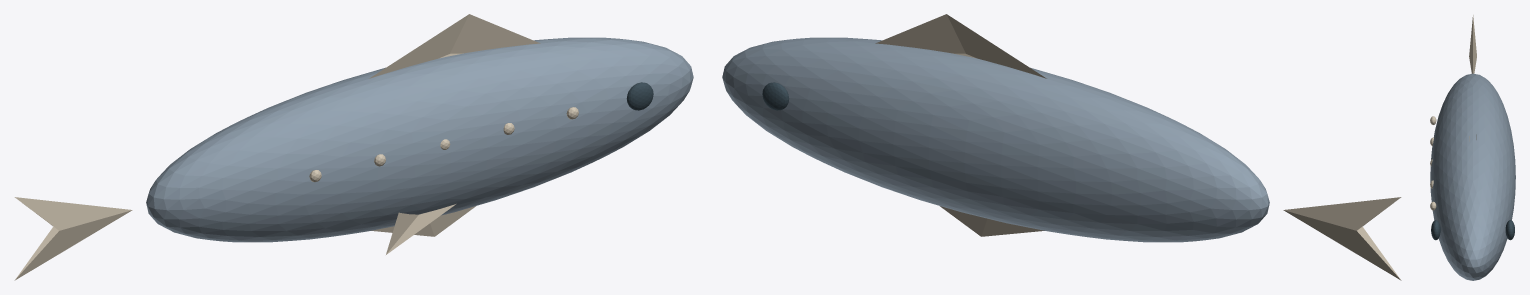
File: Ikan_Tongkol.glb
3 renders of one model, left to right at view 1: azimuth 30°, elevation 25°; view 2: azimuth 150°, elevation 25°; view 3: azimuth 270°, elevation 25°, orthographic. The views are drawn at different scales.
Parts seen in each view (by area): view 1: Part_00, Part_01, Part_02, Part_04, Part_03, Part_05; view 2: Part_00, Part_01, Part_02, Part_03, Part_06; view 3: Part_00, Part_01, Part_05, Part_06.
Boxes of the visible parts, x1,y1,x2,y2 form: Part_00: (146, 37, 693, 242); Part_01: (14, 197, 132, 280); Part_02: (369, 14, 540, 78); Part_04: (386, 204, 455, 254); Part_03: (371, 206, 475, 236); Part_05: (626, 82, 653, 110); Part_00: (722, 37, 1269, 242); Part_01: (1283, 197, 1401, 280); Part_02: (875, 14, 1046, 78); Part_03: (940, 206, 1044, 236); Part_06: (762, 82, 789, 110); Part_00: (1430, 73, 1515, 280); Part_01: (1469, 15, 1476, 73); Part_05: (1431, 220, 1440, 240); Part_06: (1505, 220, 1514, 240).
Bounding box in the file's own units: 1.99 × 0.6006 × 0.32.
